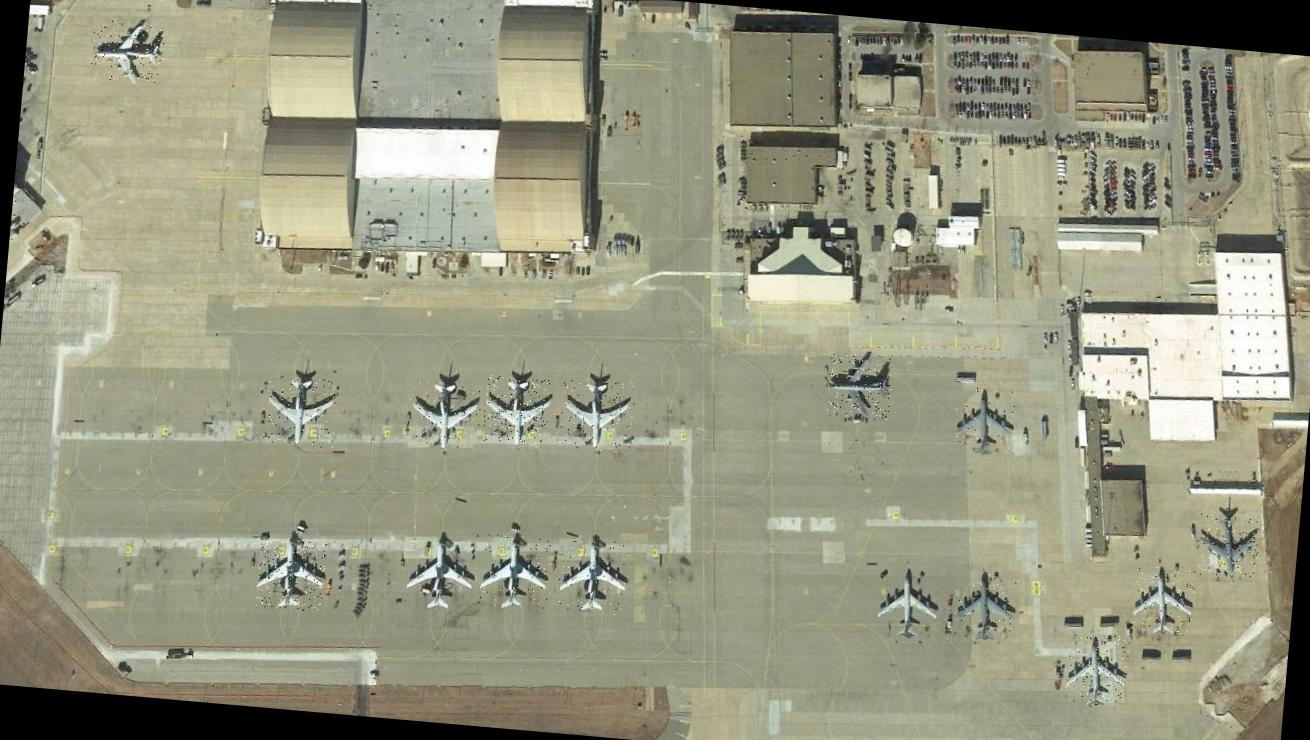A11: (1064, 631, 1130, 709), (875, 570, 942, 640), (1130, 564, 1196, 634)
A14: (1193, 513, 1261, 582), (826, 352, 893, 422), (950, 385, 1016, 452), (954, 570, 1016, 640)
A7: (402, 532, 478, 613), (556, 537, 632, 616), (558, 377, 636, 453), (478, 532, 553, 610), (260, 374, 339, 448), (405, 379, 482, 454), (255, 534, 327, 612), (481, 374, 553, 446), (89, 19, 165, 85)
